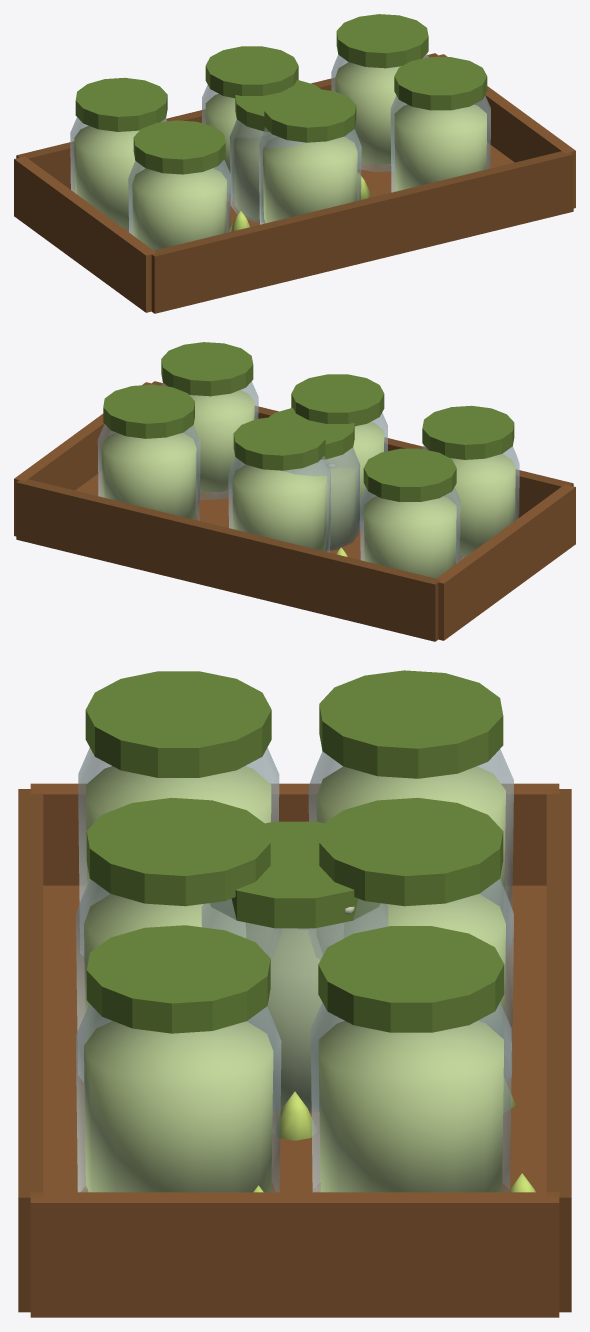
Rendered from Ranch_Honeydew.fbx.
3 renders of one model, top to bottom at view 1: azimuth 30°, elevation 25°; view 2: azimuth 150°, elevation 25°; view 3: azimuth 270°, elevation 25°, orthographic. The views are drawn at different scales.
Parts seen in each view (by area): view 1: Ranch_Honeydew__Stack, Ranch_Honeydew, Ranch_Honeydew__Rotten; view 2: Ranch_Honeydew__Stack, Ranch_Honeydew, Ranch_Honeydew__Rotten; view 3: Ranch_Honeydew__Stack, Ranch_Honeydew, Ranch_Honeydew__Rotten.
Part boxes in pixels (x1,y1,x2,y2): Ranch_Honeydew__Stack: [14, 14, 575, 313]; Ranch_Honeydew: [229, 80, 320, 223]; Ranch_Honeydew__Rotten: [230, 120, 263, 222]; Ranch_Honeydew__Stack: [14, 342, 575, 641]; Ranch_Honeydew: [269, 408, 360, 551]; Ranch_Honeydew__Rotten: [326, 448, 359, 550]; Ranch_Honeydew__Stack: [18, 670, 571, 1317]; Ranch_Honeydew: [202, 821, 387, 1140]; Ranch_Honeydew__Rotten: [245, 906, 354, 1112].
Size of the model in its own units: 0.3143 by 0.0899 by 0.1753.
